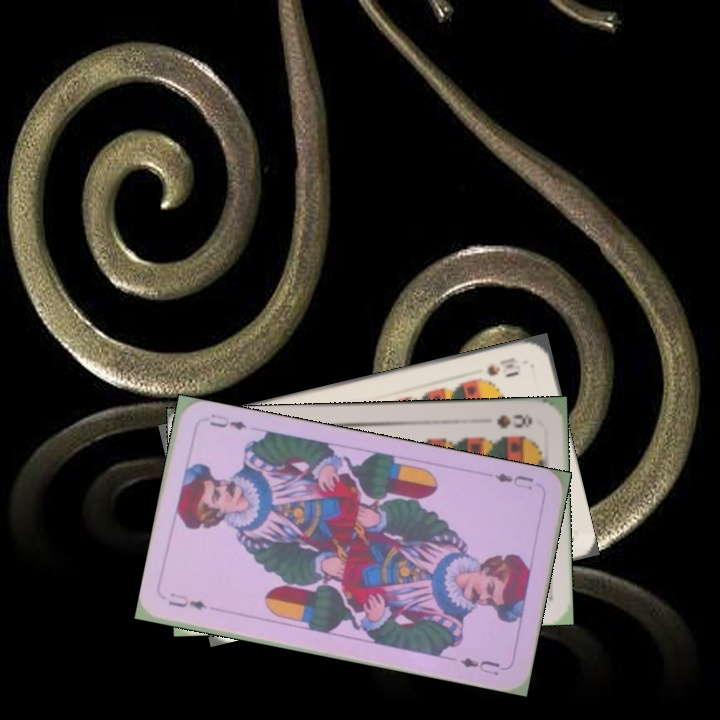EU: (490, 469, 536, 492), (164, 590, 209, 613)
S10: (471, 353, 521, 383)
S8: (493, 409, 535, 431)
